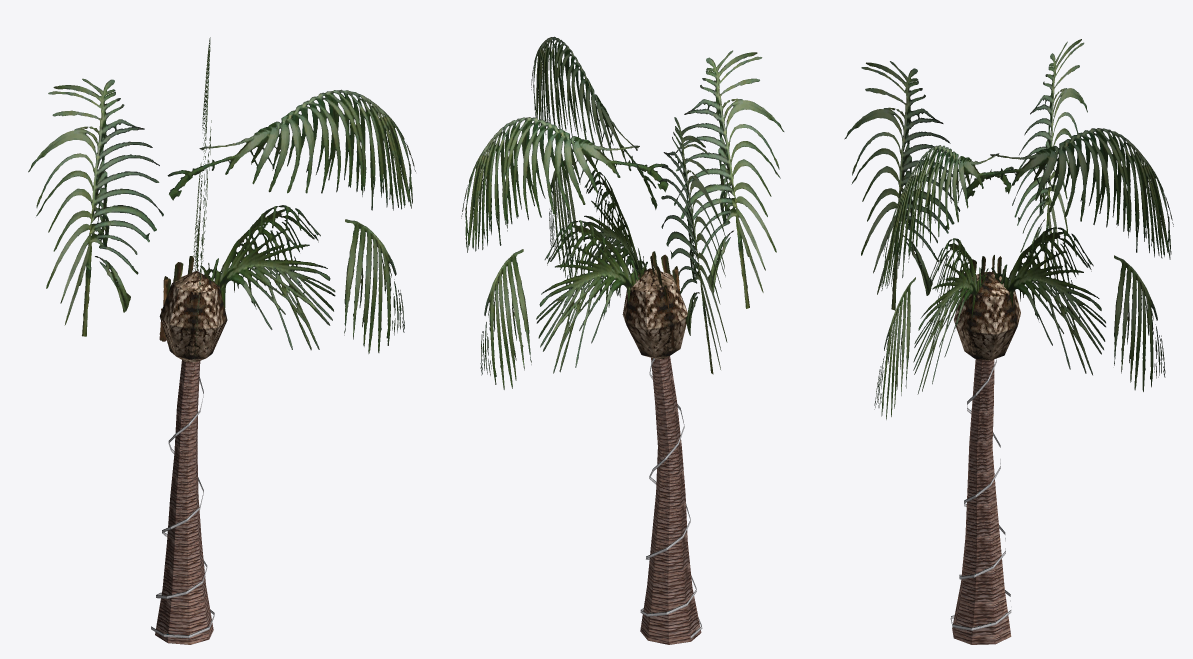
Rendered from vgsn_nitree_y02.obj.
3 views of the same model, side by side, from view 1: azimuth 30°, elevation 25°; view 2: azimuth 150°, elevation 25°; view 3: azimuth 270°, elevation 25° (orthographic). The views are drawn at different scales.
Visible parts, largest first — view 1: VgsN_nitree_y02; view 2: VgsN_nitree_y02; view 3: VgsN_nitree_y02.
Part boxes in pixels (x1,y1,x2,y2): VgsN_nitree_y02: [28, 37, 415, 644]; VgsN_nitree_y02: [461, 36, 784, 644]; VgsN_nitree_y02: [844, 39, 1173, 644].
Bounding box in the file's own units: 8.28 × 13.85 × 7.55.
Materials: 4 (4 with a texture image).
